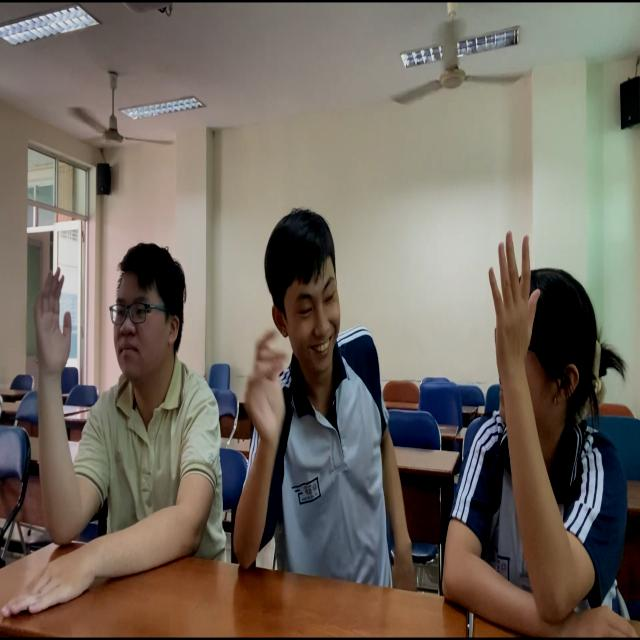raise_hand: (436, 228, 640, 640), (18, 239, 230, 594)
